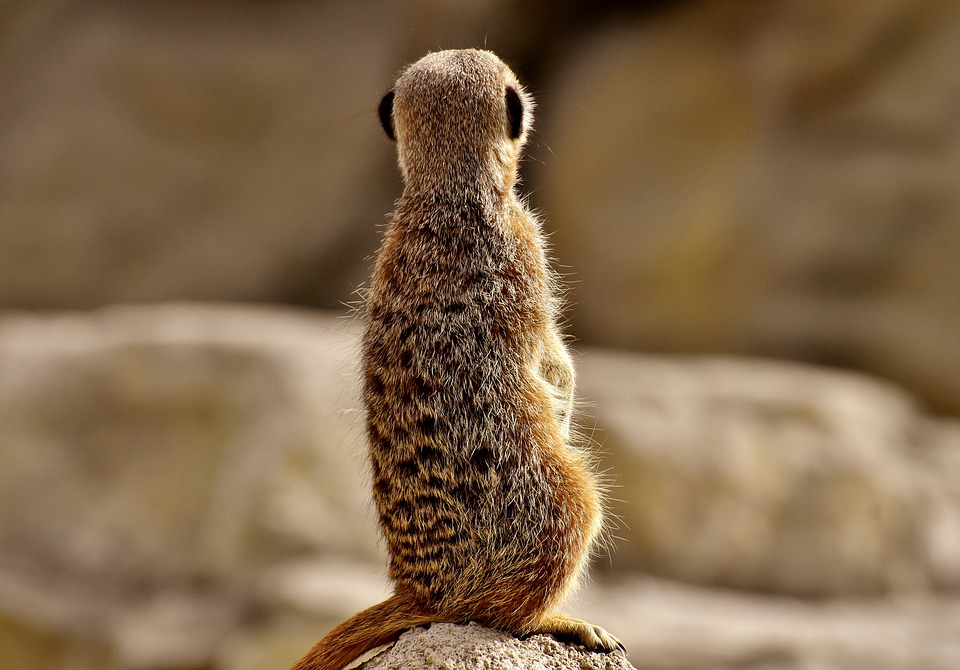meerkat: (305, 21, 680, 664)
